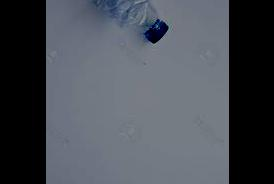Plastic: (87, 0, 171, 46)
